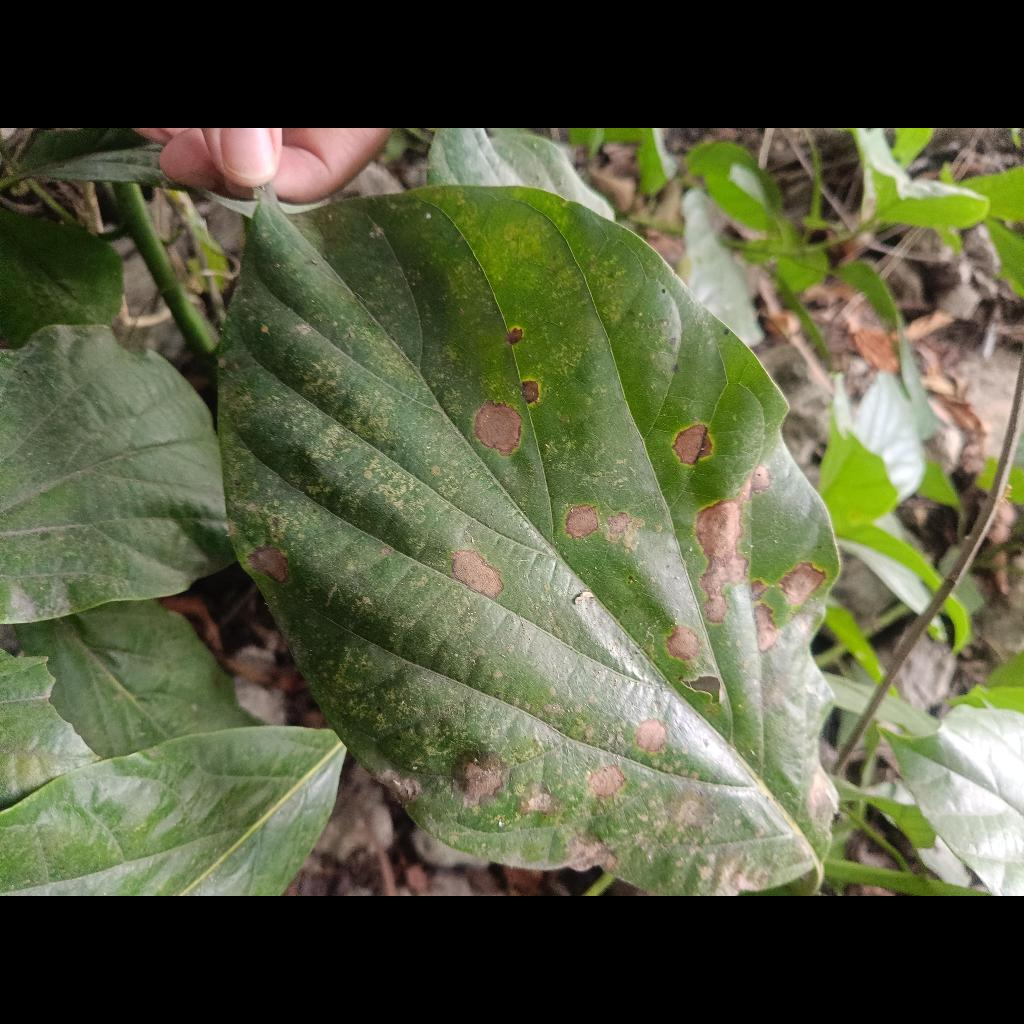antracnosis_hoja: (220, 186, 839, 896)
